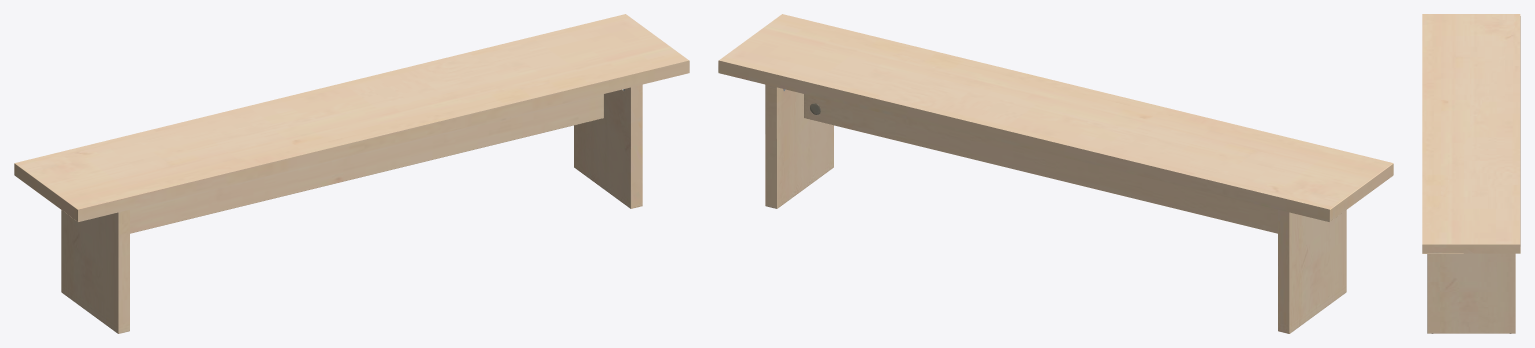
The model's file is bergshyttan_awka_30601651.glb.
The picture shows the model from 3 angles, left to right: view 1: azimuth 30°, elevation 25°; view 2: azimuth 150°, elevation 25°; view 3: azimuth 270°, elevation 25°; orthographic projection. The views are drawn at different scales.
Parts seen in each view (by area): view 1: bergshyttan_awka_30601651; view 2: bergshyttan_awka_30601651; view 3: bergshyttan_awka_30601651.
Boxes of the visible parts, bbox=[...] form: bergshyttan_awka_30601651: bbox=[14, 14, 689, 333]; bergshyttan_awka_30601651: bbox=[718, 14, 1393, 333]; bergshyttan_awka_30601651: bbox=[1422, 14, 1520, 333].
Size of the model in its own units: 2.1 by 0.4561 by 0.379.
1 material, 1 textured.
